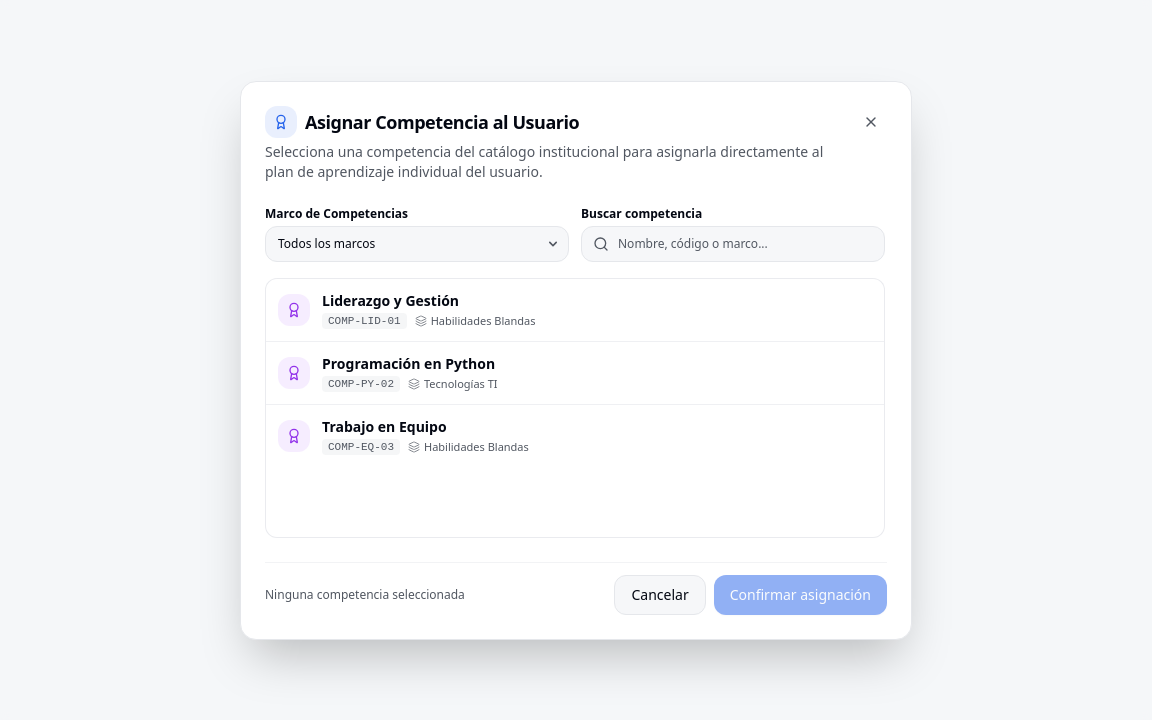
Test: AssignCompetencyModal › filters competencies using the search input
Expected: the text "Liderazgo y Gestión" is shown, [322, 290, 459, 310]
Type "Python" into the search field with placeholder "Nombre, código o marco...". click: (733, 244)
box: [581, 226, 885, 262]
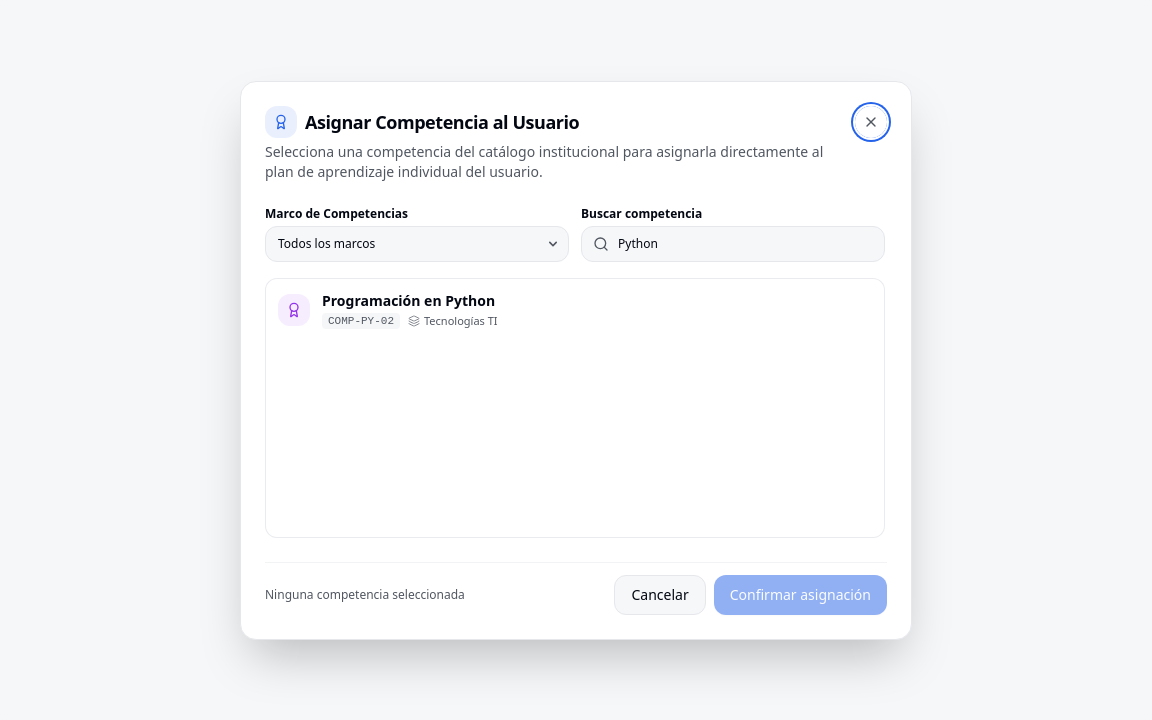
Expected: the text "Programación en Python" is shown, [322, 290, 498, 310]
Result: the button "Liderazgo y Gestión" is gone
